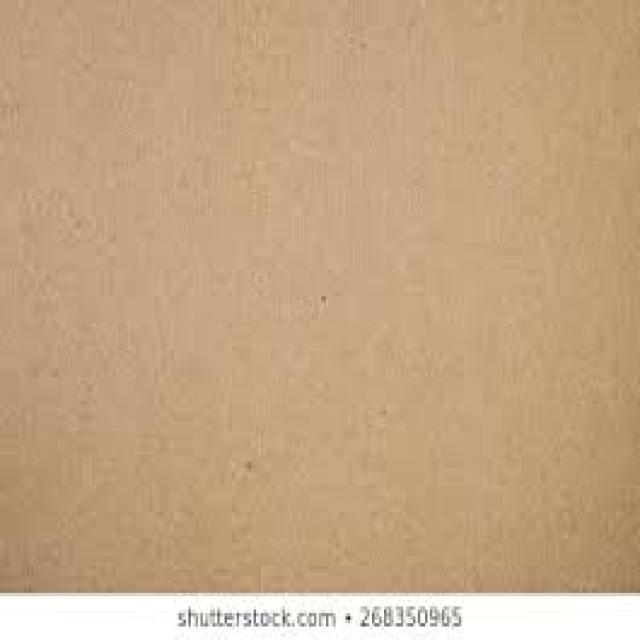cardboard: (0, 0, 639, 592)
